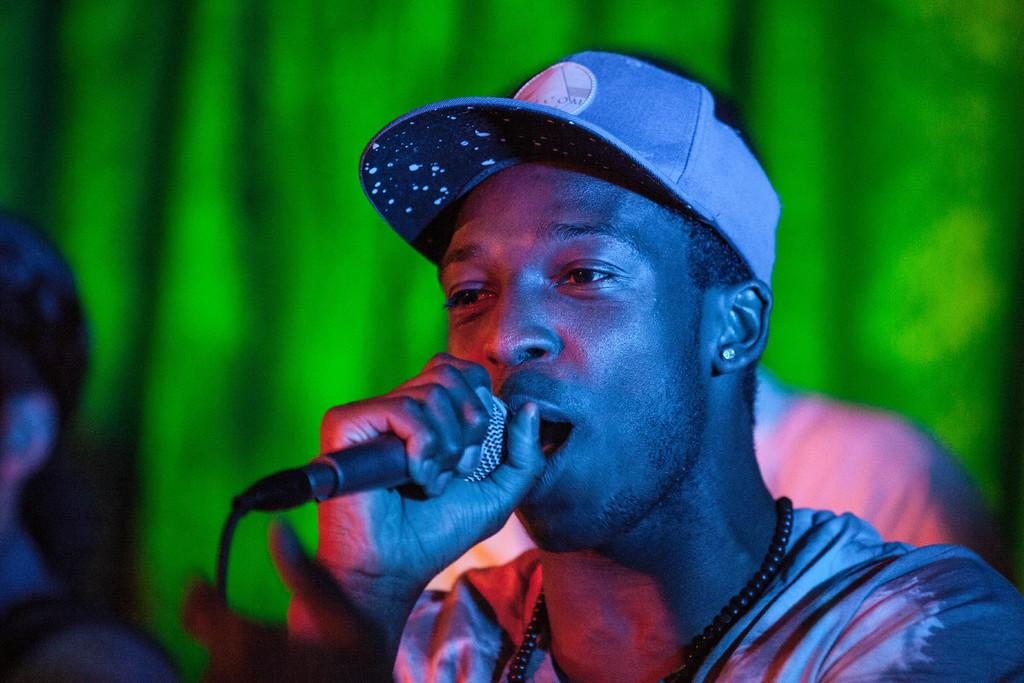Hat: (358, 49, 783, 283)
